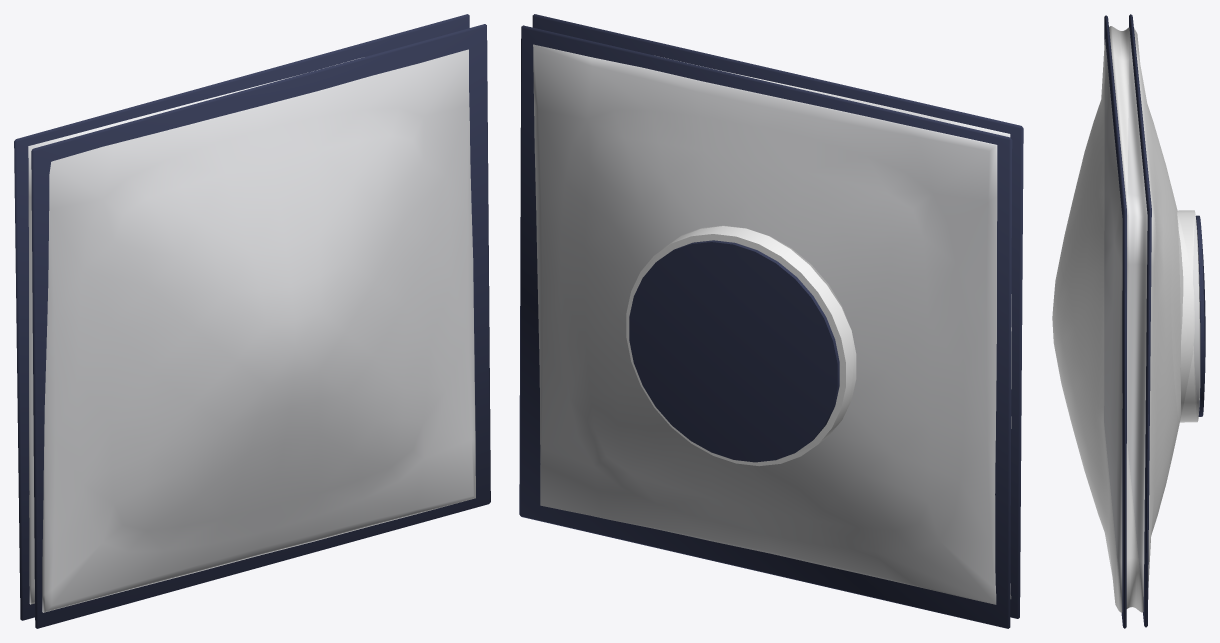
The model's file is wall_lamp.FBX.
The picture shows the model from 3 angles, left to right: view 1: azimuth 30°, elevation 25°; view 2: azimuth 150°, elevation 25°; view 3: azimuth 270°, elevation 25°; orthographic projection. The views are drawn at different scales.
Parts seen in each view (by area): view 1: OilTank009; view 2: OilTank009; view 3: OilTank009.
Part boxes in pixels (left/top/right/bottom): OilTank009: left=14, top=14, right=490, bottom=628; OilTank009: left=519, top=14, right=1023, bottom=628; OilTank009: left=1052, top=14, right=1205, bottom=628.
Bounding box in the file's own units: 170 × 167 × 54.82.
